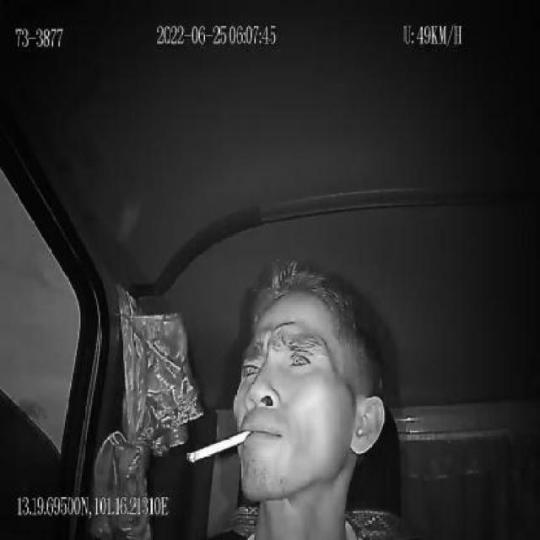smoking: (186, 426, 254, 466)
